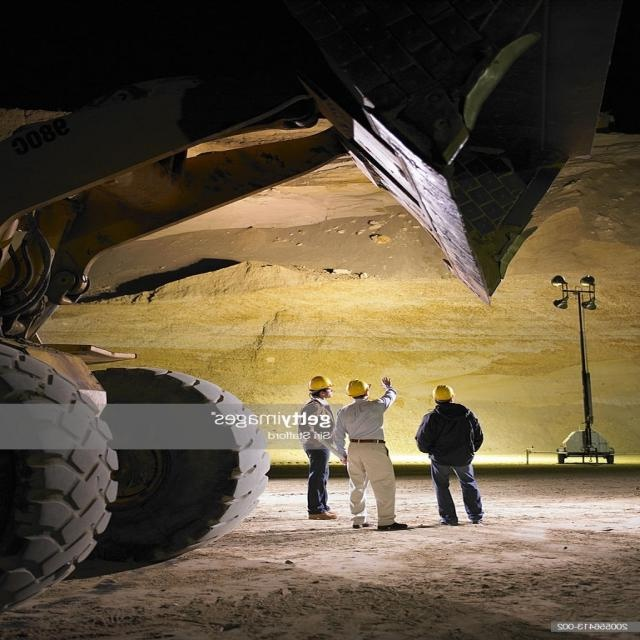Sin_Chaleco: (416, 404, 478, 467), (339, 398, 390, 443)
